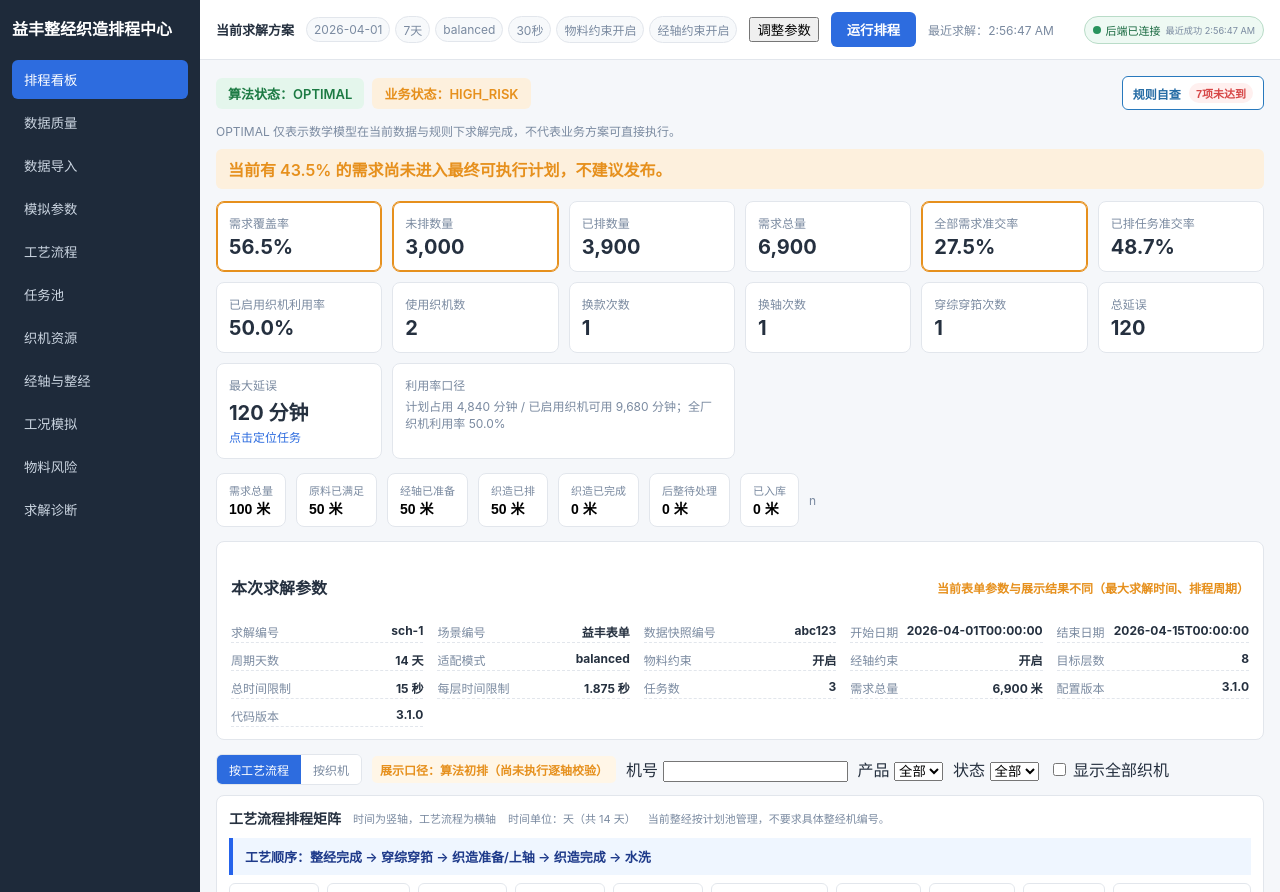
Test: App › 数据质量中心集中展示数据问题
What coordinates should you click on to do the following:
click the button "数据质量"
I would click on:
 (100, 122)
Its box is x1=12 y1=103 x2=188 y2=142.
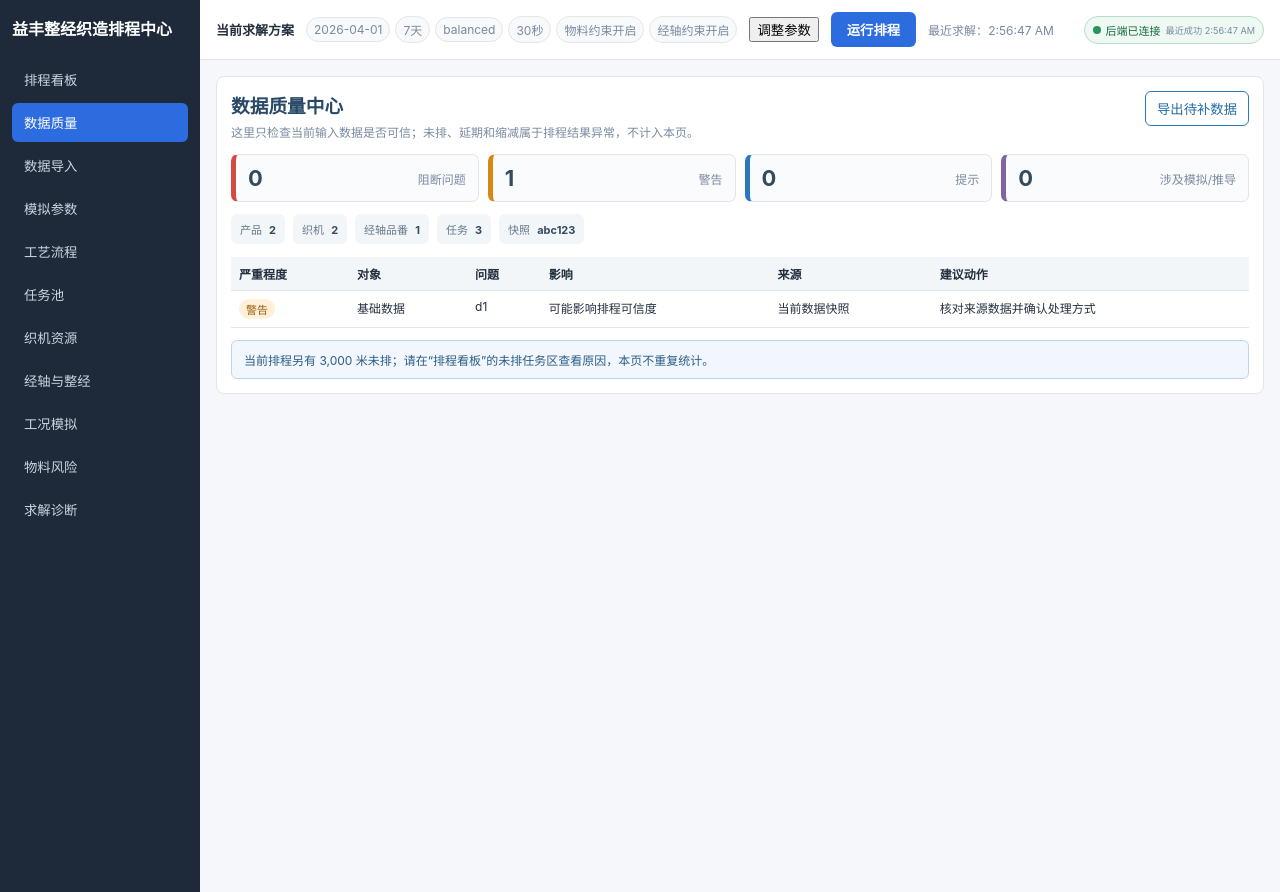
Expected: the element with test id "data-quality-page" is shown, x1=216 y1=76 x2=1264 y2=394
Expected: the text "d1" is shown, x1=467 y1=290 x2=541 y2=328
Expected: the text with test id "schedule-issue-note" shows "3,000 米未排", x1=231 y1=340 x2=1249 y2=379
